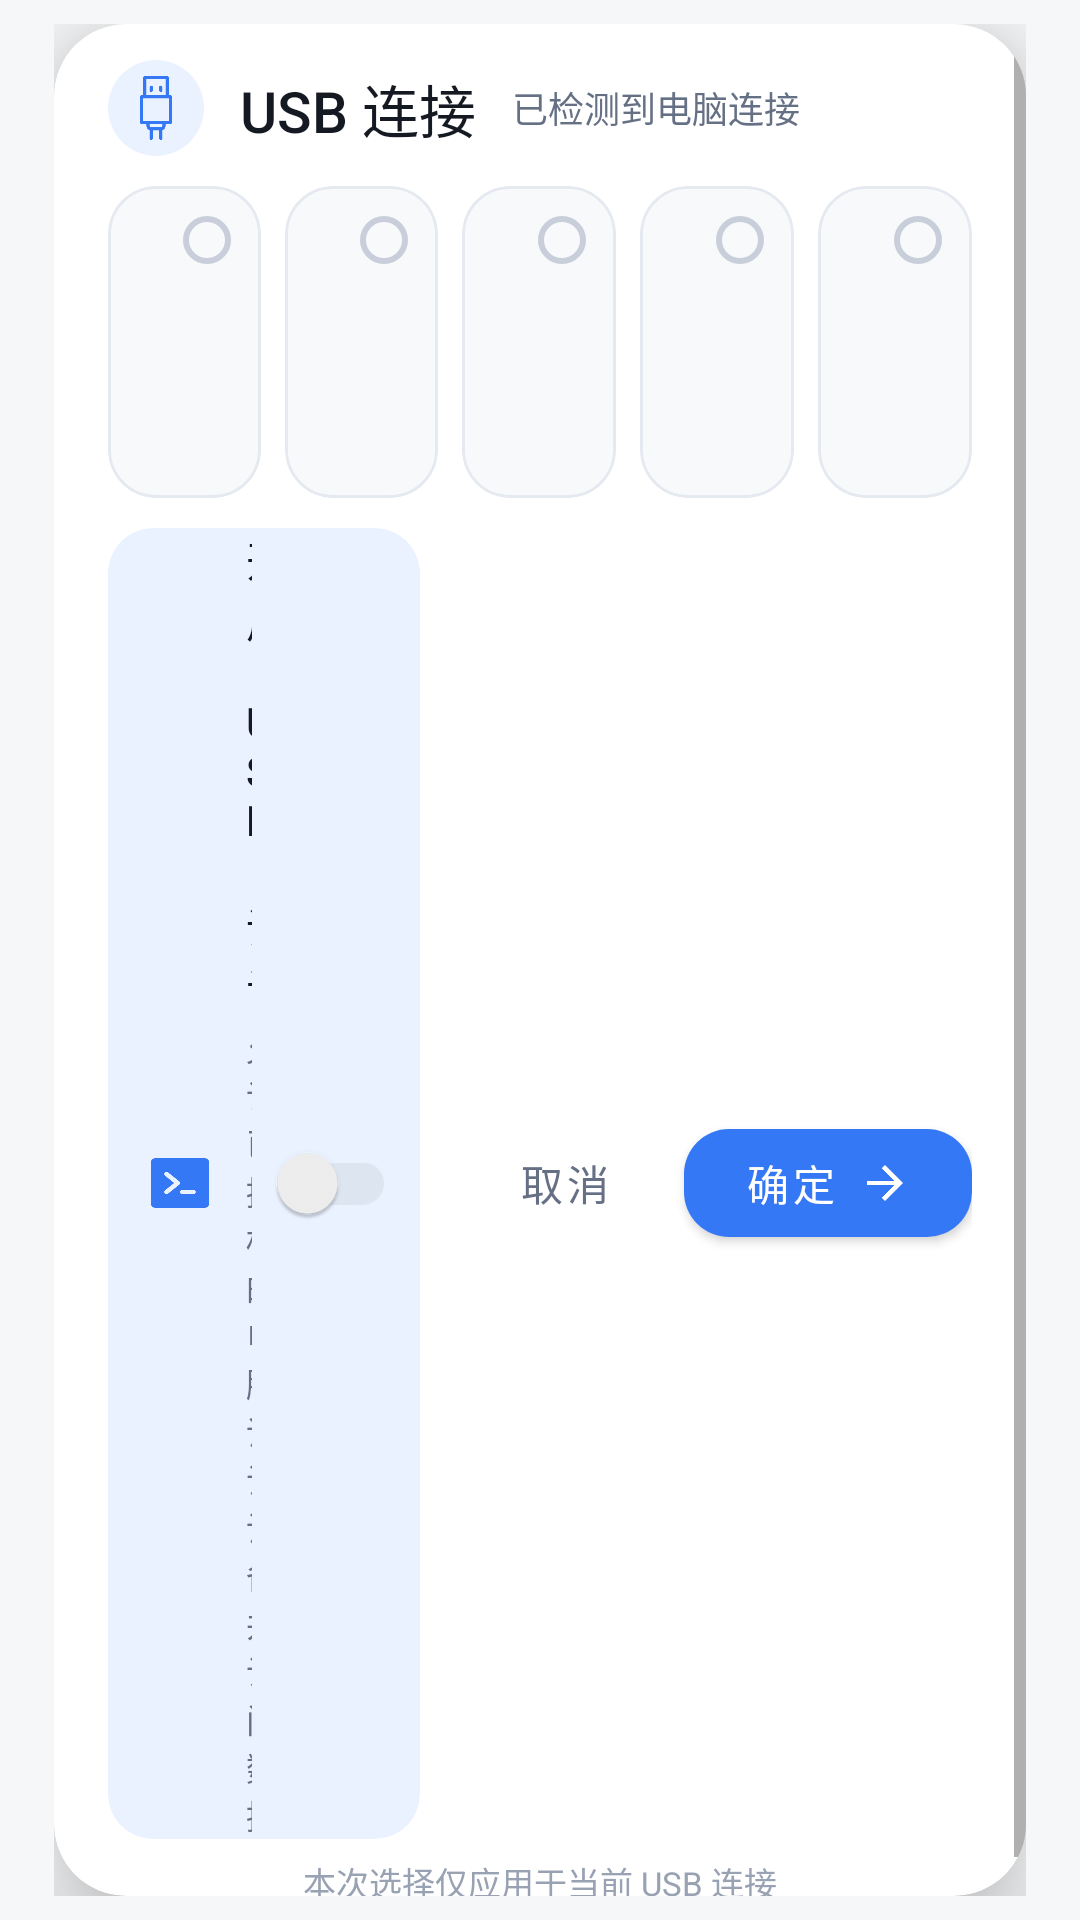

Screen size 1080 x 1920. Icon name, then its box in pixels as [left=x1, top=y1, right=x2, bottom=y2]:
terminal: [left=151, top=1158, right=209, bottom=1208]
usb connection: [left=108, top=60, right=204, bottom=156]
